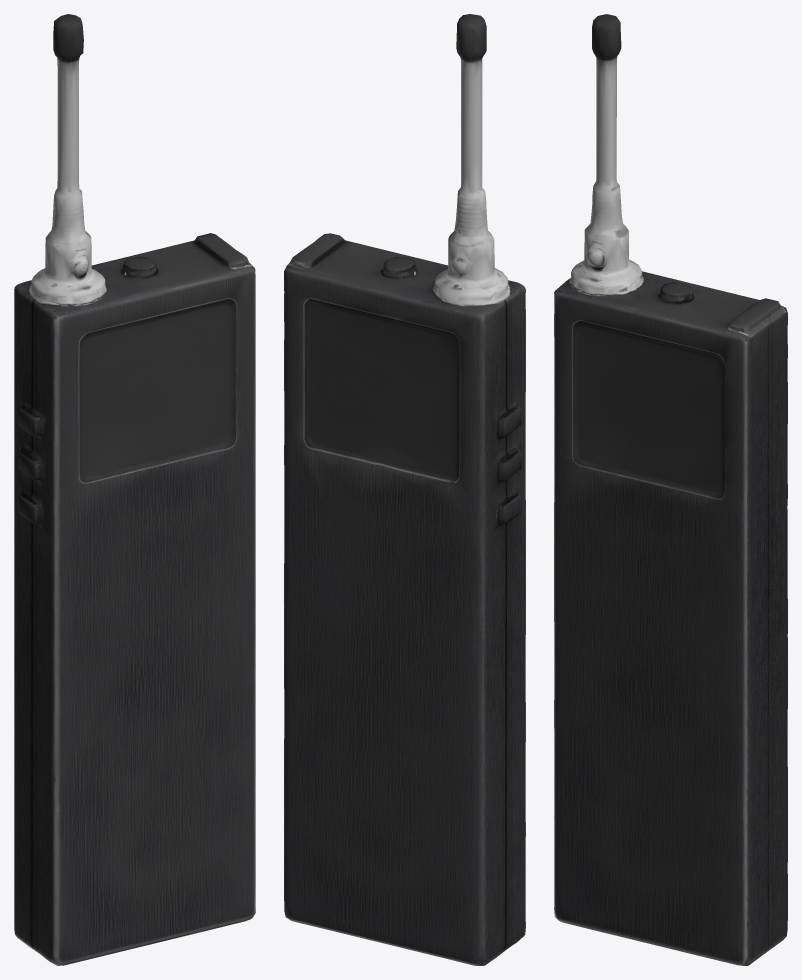
File: Meshy_AI_Destination_0130064801_texture.fbx
3 renders of one model, left to right at view 1: azimuth 30°, elevation 25°; view 2: azimuth 150°, elevation 25°; view 3: azimuth 330°, elevation 25°, orthographic. The views are drawn at different scales.
Visible parts, largest first — view 1: Mesh1.0; view 2: Mesh1.0; view 3: Mesh1.0.
Part boxes in pixels (x1,y1,x2,y2): Mesh1.0: (14,14,255,965); Mesh1.0: (284,14,525,965); Mesh1.0: (554,14,787,965).
Bounding box in the file's own units: 47.85 × 201 × 18.16.
Materials: 1 (1 with a texture image).
